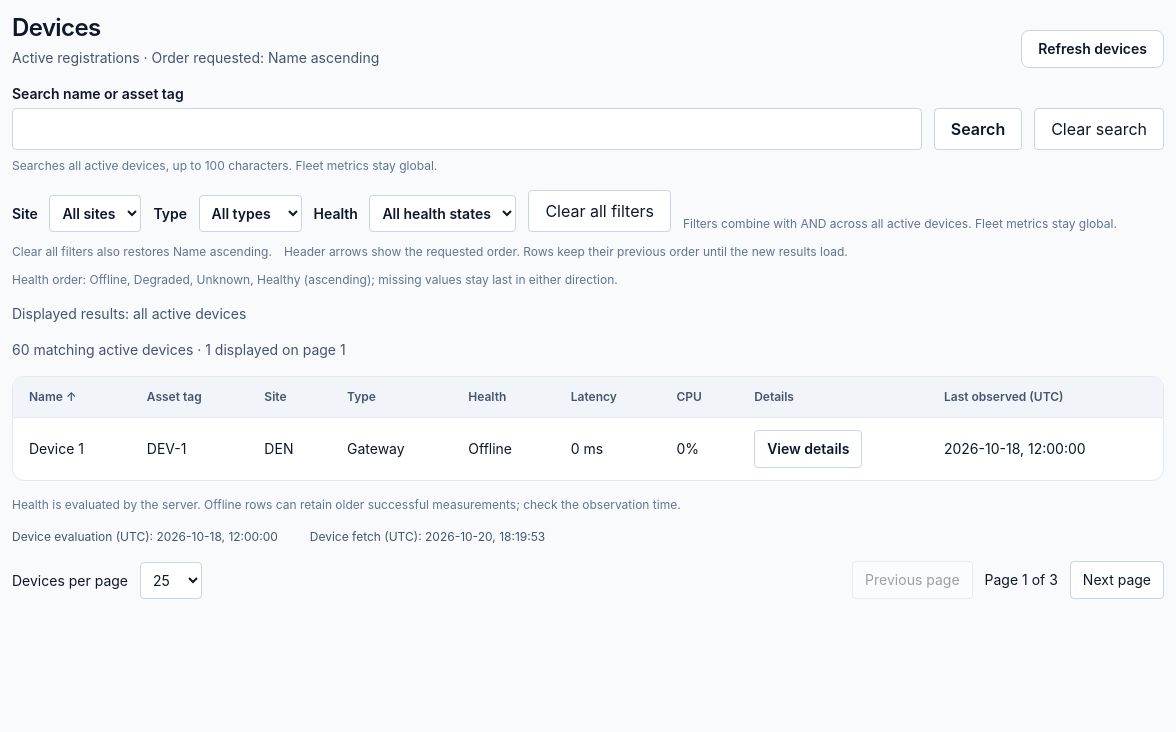
Test case: retains the current page and its fetch timestamp after a failed background refresh
The width and height of the screenshot is (1176, 732).
Expected: the text "Device 1" is shown, [13,418,131,480]
What coordinates should you click on to do the following:
click the button "Refresh devices"
I would click on:
 (1093, 49)
Its box is [1021,30,1164,68].
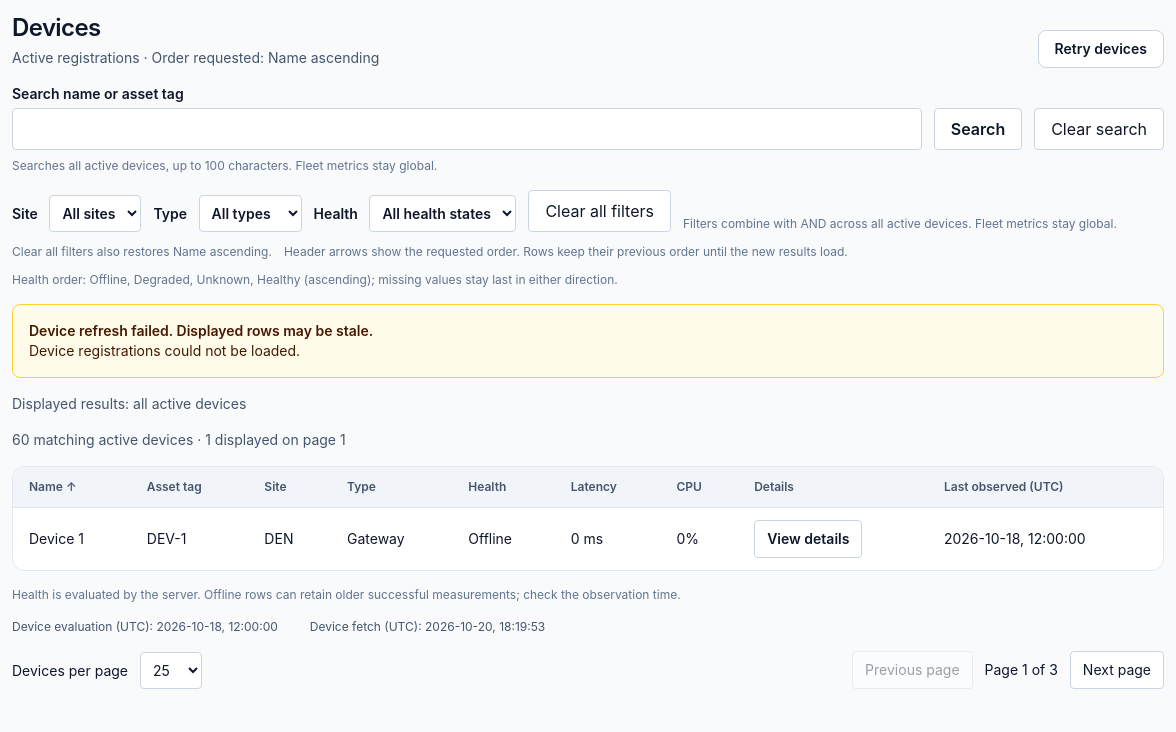
Expected: the text "Device 1" is shown, [13,508,131,570]
Expected: the message is shown, [12,304,1164,378]
Expected: the text "Device refresh failed. Displayed rows may be stale." is shown, [29,322,373,339]
